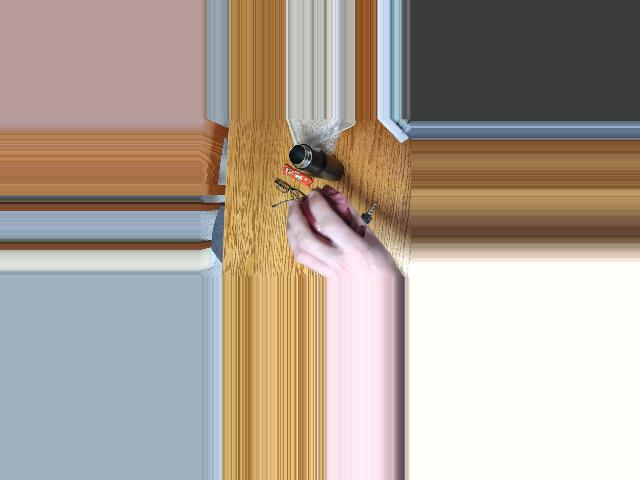onion: (294, 193, 356, 239)
